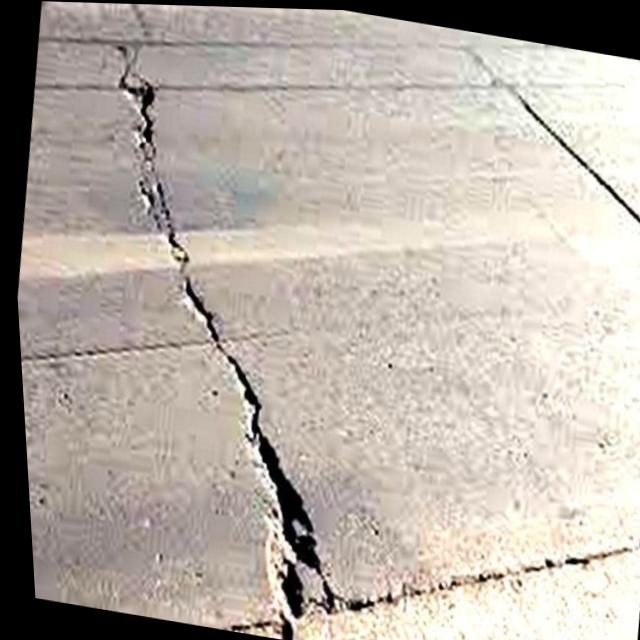Crack: (67, 51, 267, 325), (146, 273, 339, 477), (209, 424, 374, 614)
